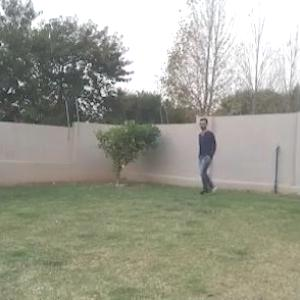follow: (195, 115, 215, 198)
